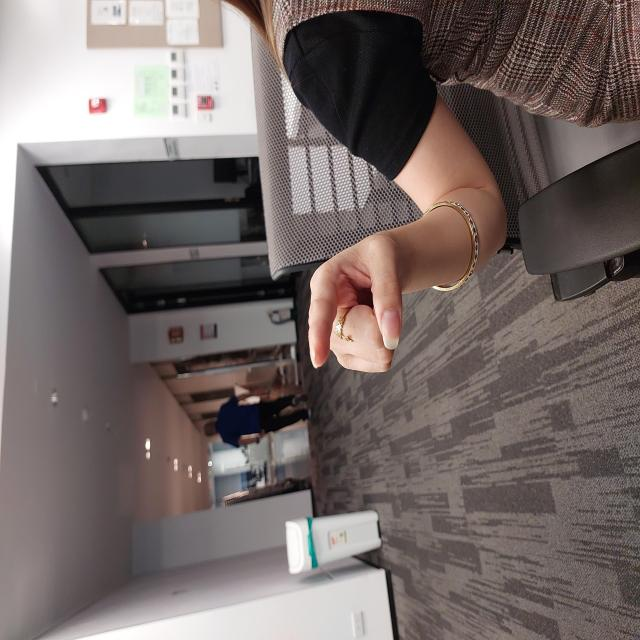Z: (264, 306, 409, 408)
